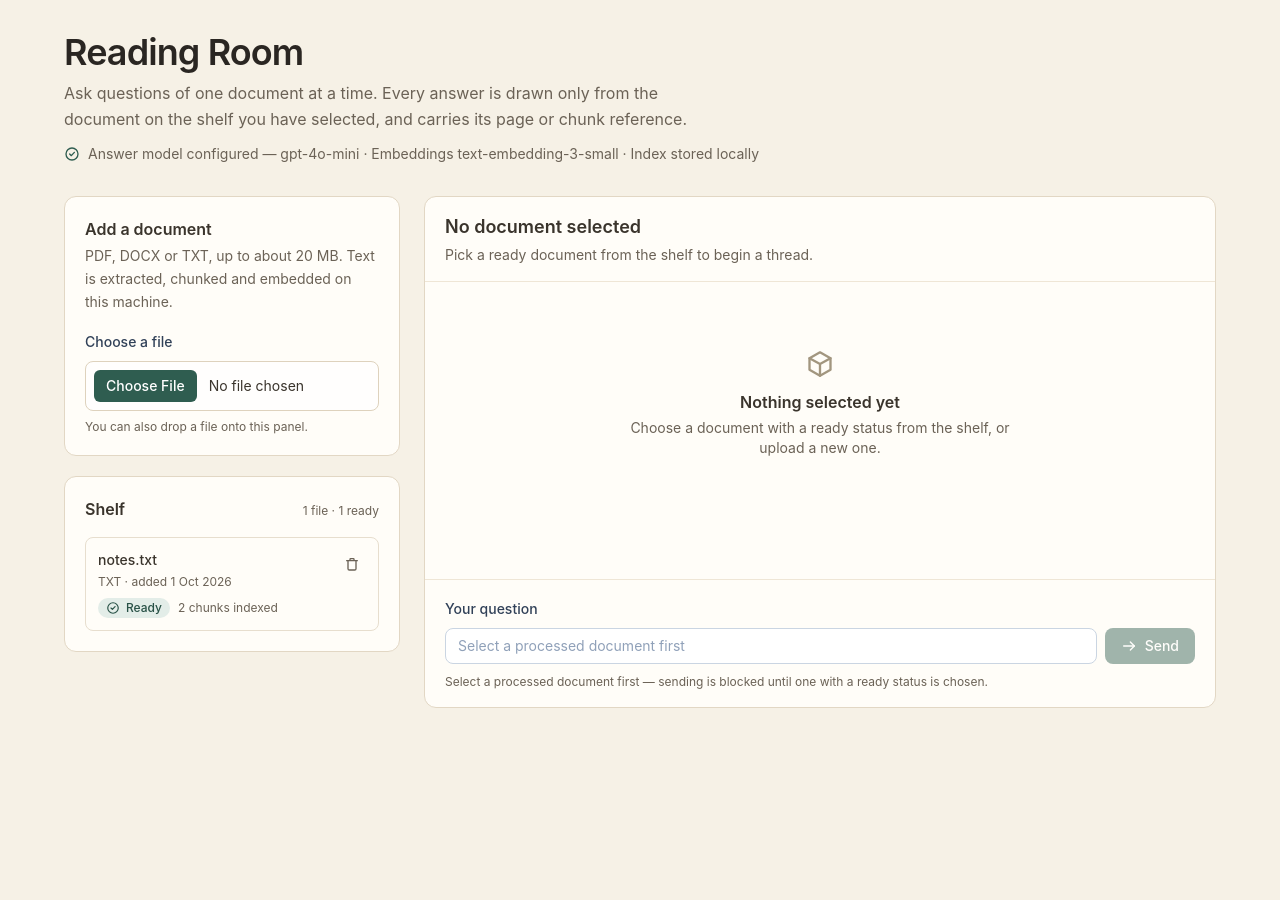
Scenario: Home screen › AC-041: a DOCX/TXT-sourced answer shows the document name and chunk number instead of a page
The width and height of the screenshot is (1280, 900).
Click the text "notes.txt": (128, 560) [98,551,157,568]
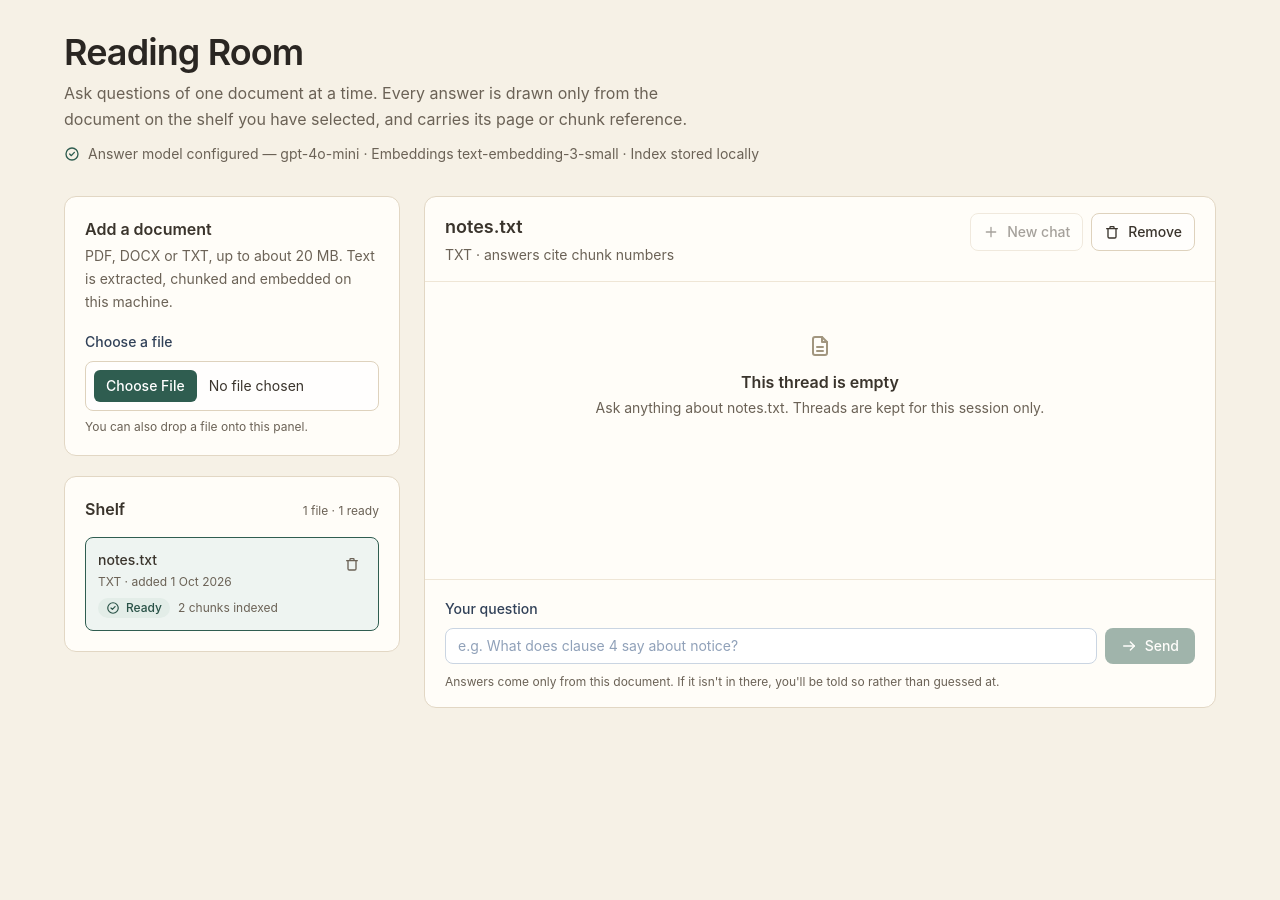
In the field labelled "Your question": (771, 646) [445,628,1097,664], type "What is the notice period?"
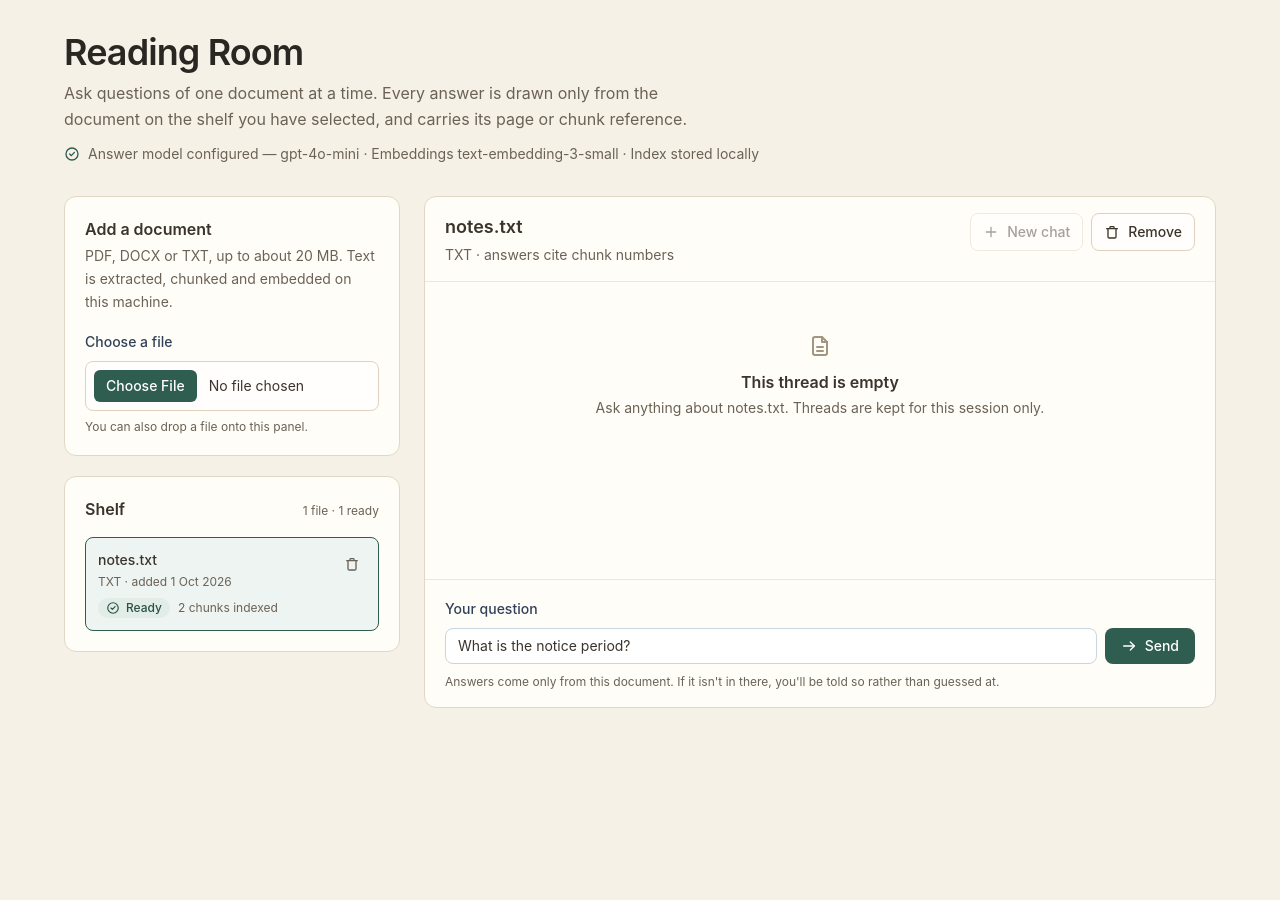
Submit the form labelled "Your question", box [425,578,1215,707]
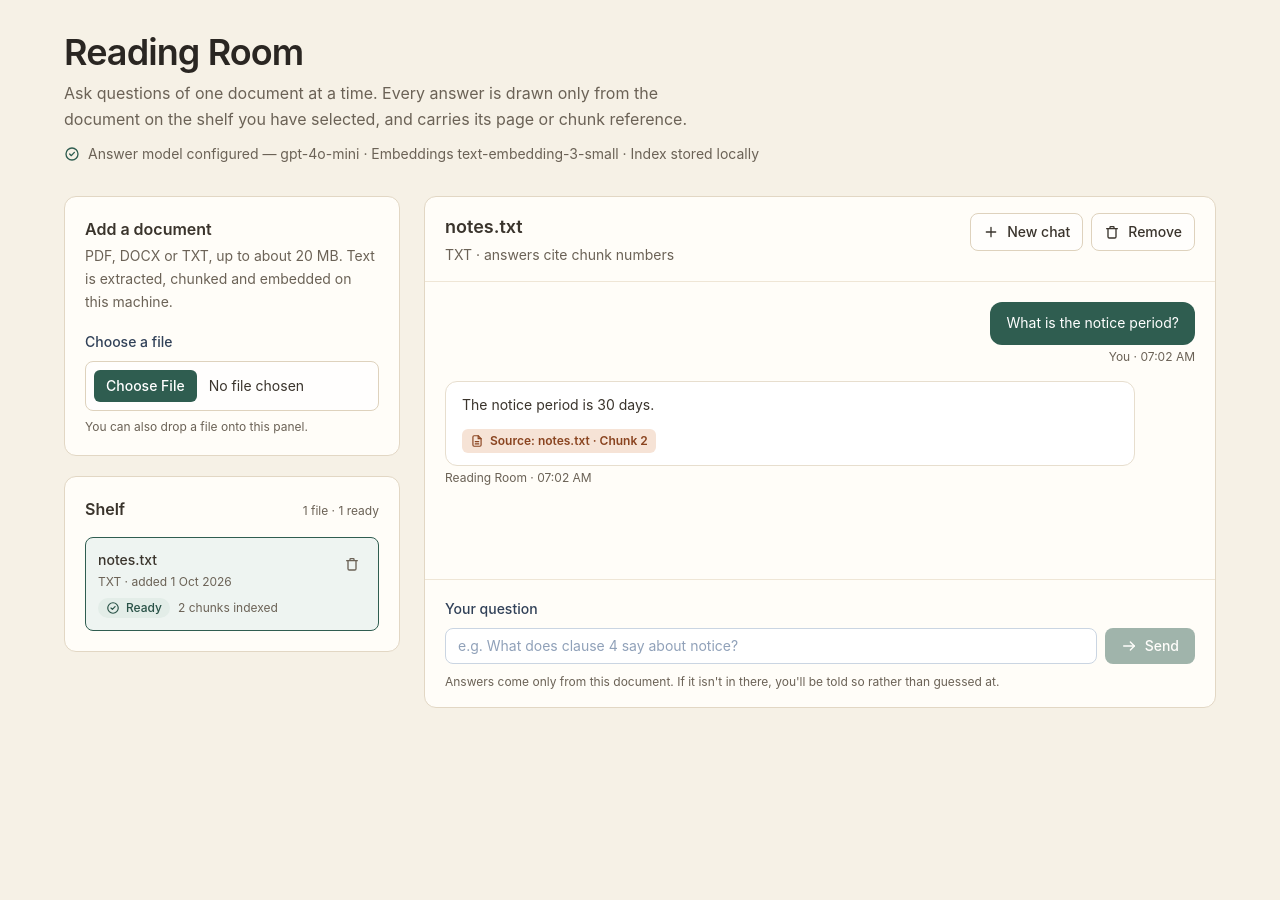
Check: the text "The notice period is 30 days." is shown, box [462,396,654,413]
Check: the text "Source: notes.txt · Chunk 2" is shown, box [462,428,656,452]
